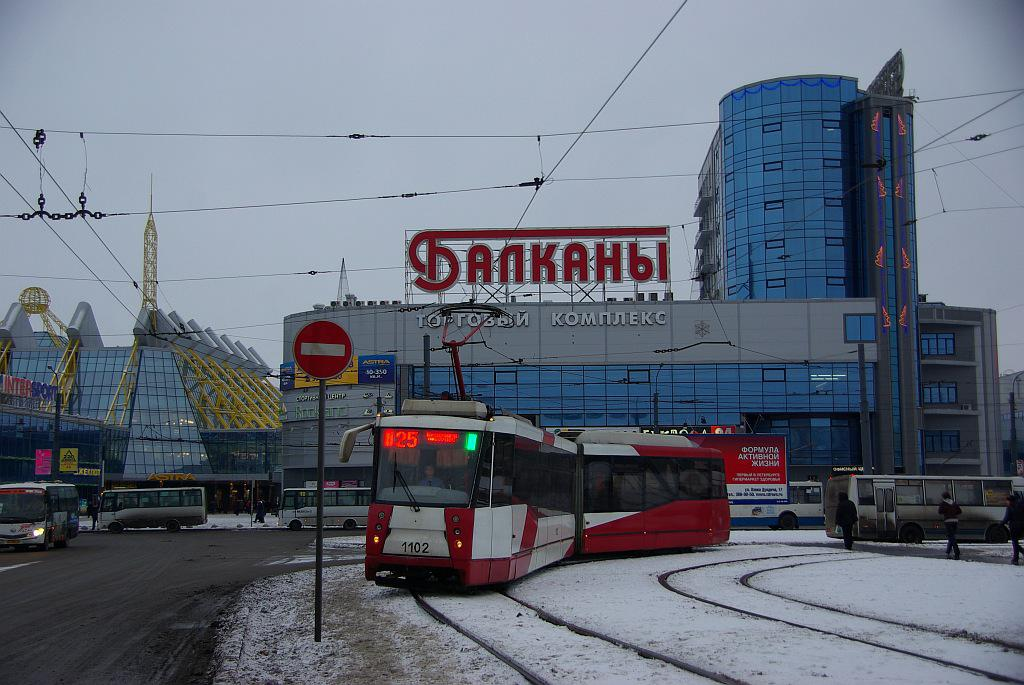Bus: (828, 475, 1022, 543), (0, 482, 83, 549), (723, 482, 828, 531), (94, 488, 209, 532), (275, 488, 373, 529)
